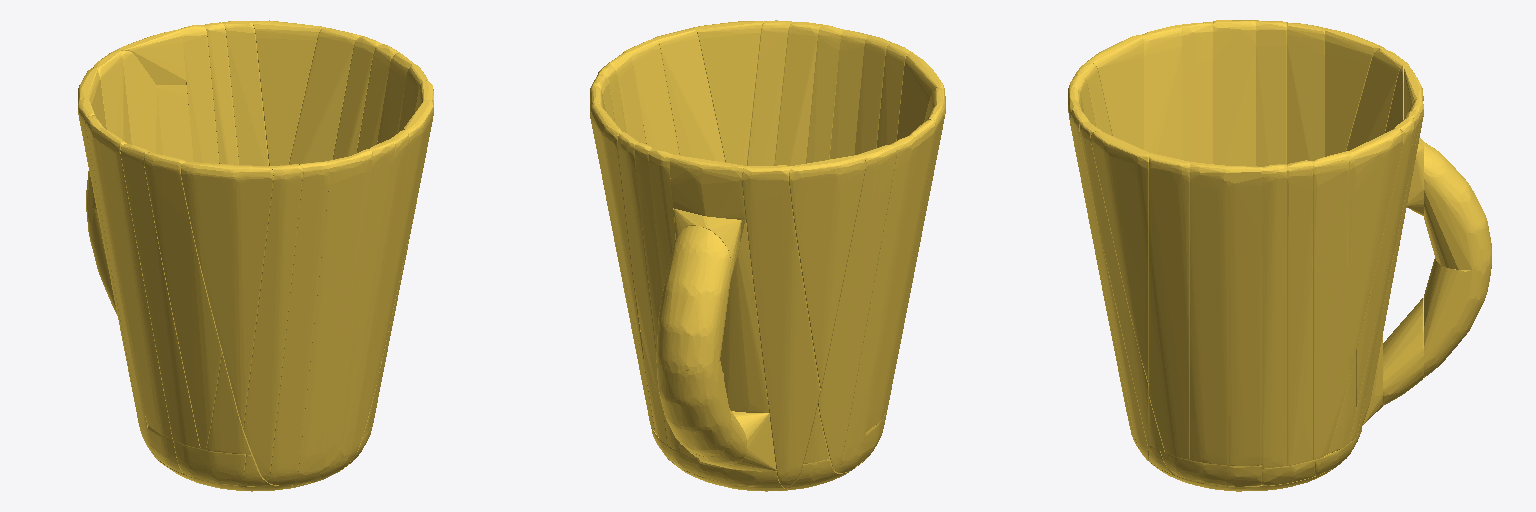
robot.urdf — 824.urdf:
<?xml version="1.0" ?>
<robot name="824.urdf">
	<link name="baseLink">
		<inertial>
			<origin rpy="0 0 0" xyz="0 0 0"/>
				<mass value="0.1"/>
				<inertia ixx="6e-5" ixy="0" ixz="0" iyy="6e-5" iyz="0" izz="6e-5"/>
		</inertial>
		<visual>
			<origin rpy="0 0 0" xyz="0 0 0"/>
			<geometry>
				<mesh filename="17_decom_wt.obj" scale="0.93 0.93 1.05"/>
			</geometry>
			<material name="yellow">
				<color rgba="0.98 0.84 0.35 1"/>
			</material>
		</visual>
		<collision>
			<origin rpy="0 0 0" xyz="0 0 0"/>
			<geometry>
				<mesh filename="17_decom_wt.obj" scale="0.93 0.93 1.05"/>
			</geometry>
		</collision>
	</link>
</robot>

--- Render facts (derived) ---
3 views of the same robot in one strip: view 1: azimuth 30°, elevation 25°; view 2: azimuth 150°, elevation 25°; view 3: azimuth 270°, elevation 25° (orthographic).
Model 824.urdf with 1 links and 0 joints (none), rooted at baseLink, posed every joint at zero.
Links seen in each view (by area): view 1: baseLink; view 2: baseLink; view 3: baseLink.
Link boxes in pixels (x1,y1,x2,y2): baseLink: (78, 20, 433, 491); baseLink: (590, 20, 945, 491); baseLink: (1068, 20, 1491, 491).
Bounding box of the posed robot: 0.1127 × 0.1345 × 0.1265 m (x, y, z).
Meshes: 1 distinct files referenced, 1 mesh visuals loaded (1 OBJ).